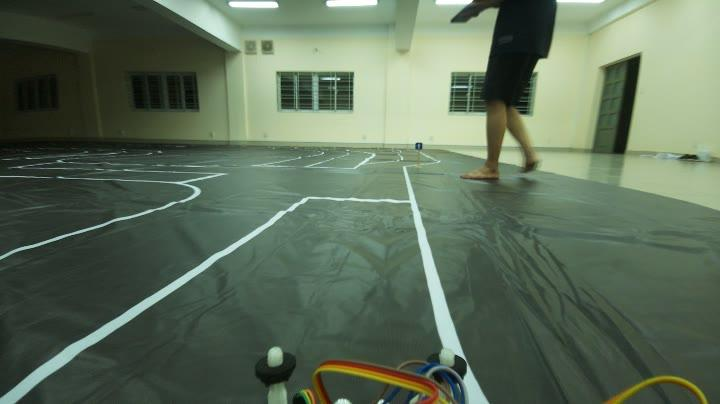onewayroad: (413, 140, 426, 152)
